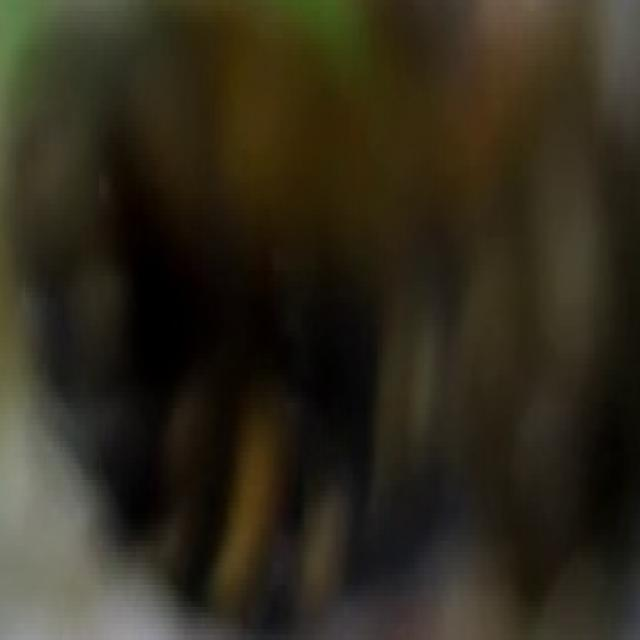fish: (1, 0, 638, 635)
